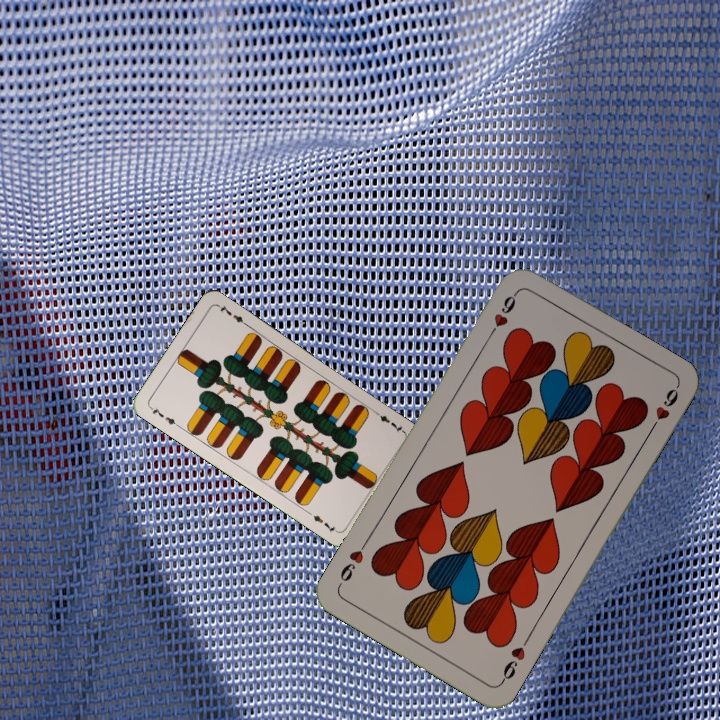E7: (370, 407, 405, 435), (146, 403, 182, 430)
H9: (496, 632, 533, 686), (484, 288, 521, 341)
